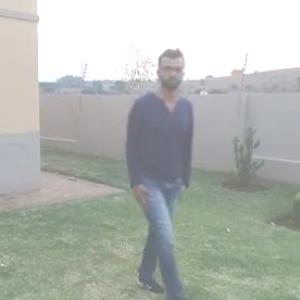follow: (92, 38, 198, 299)
